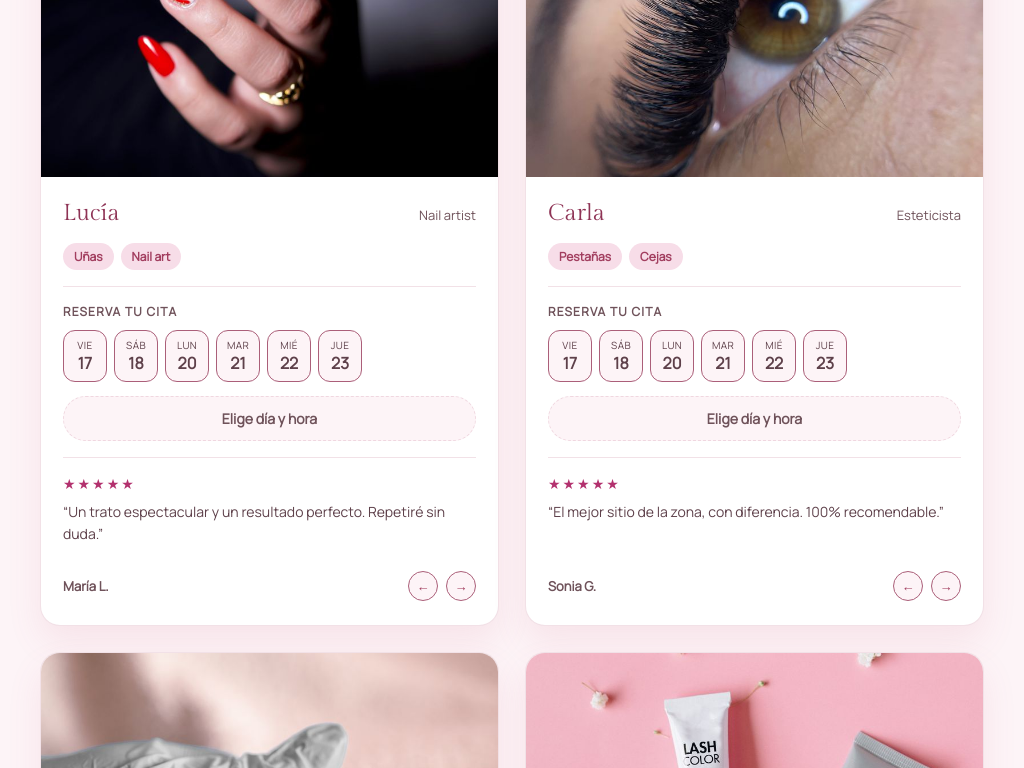
Test: @s14 cambiar de día deselecciona la hora ya elegida › @s14 con mié 22 + 16:00 elegidos, pulsar "jue 23" borra la hora y el botón vuelve a disabled
(page scrolled)
Click the button "mié 22" below "Lucía": {"x": 289, "y": 356} left=267, top=330, right=311, bottom=382
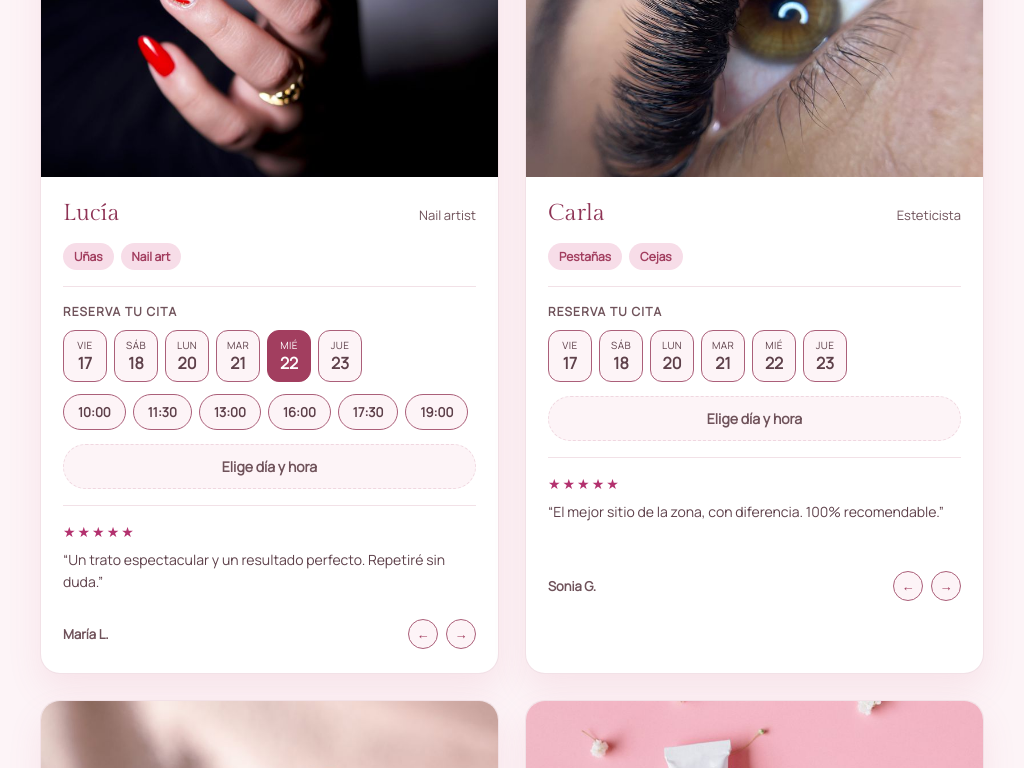
Click the button "16:00": {"x": 299, "y": 412} left=268, top=394, right=331, bottom=430
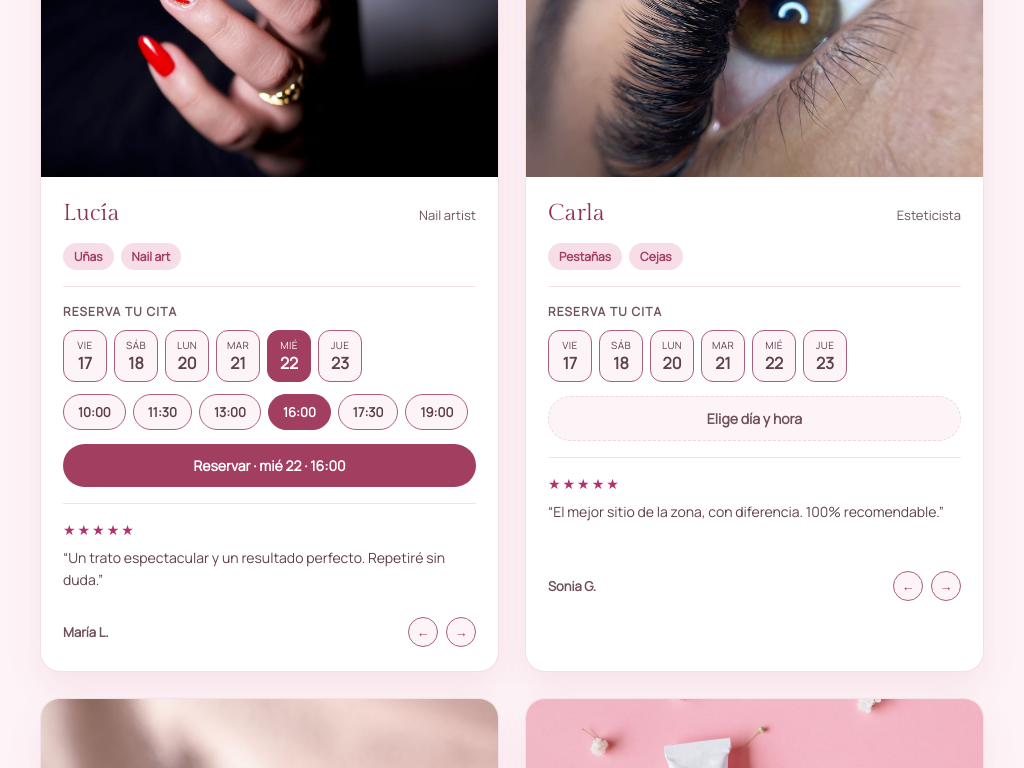
Click the button "jue 23" below "Lucía": {"x": 340, "y": 356} left=318, top=330, right=362, bottom=382
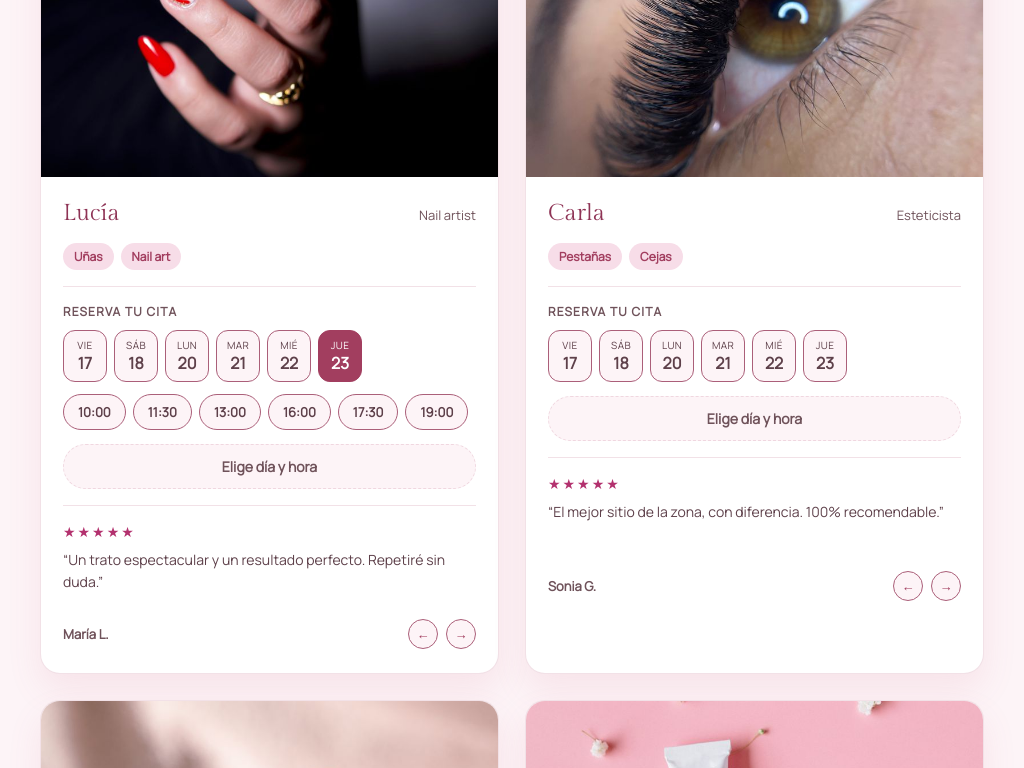
Result: the button "Elige día y hora" below "Lucía" is disabled at left=63, top=444, right=476, bottom=489
